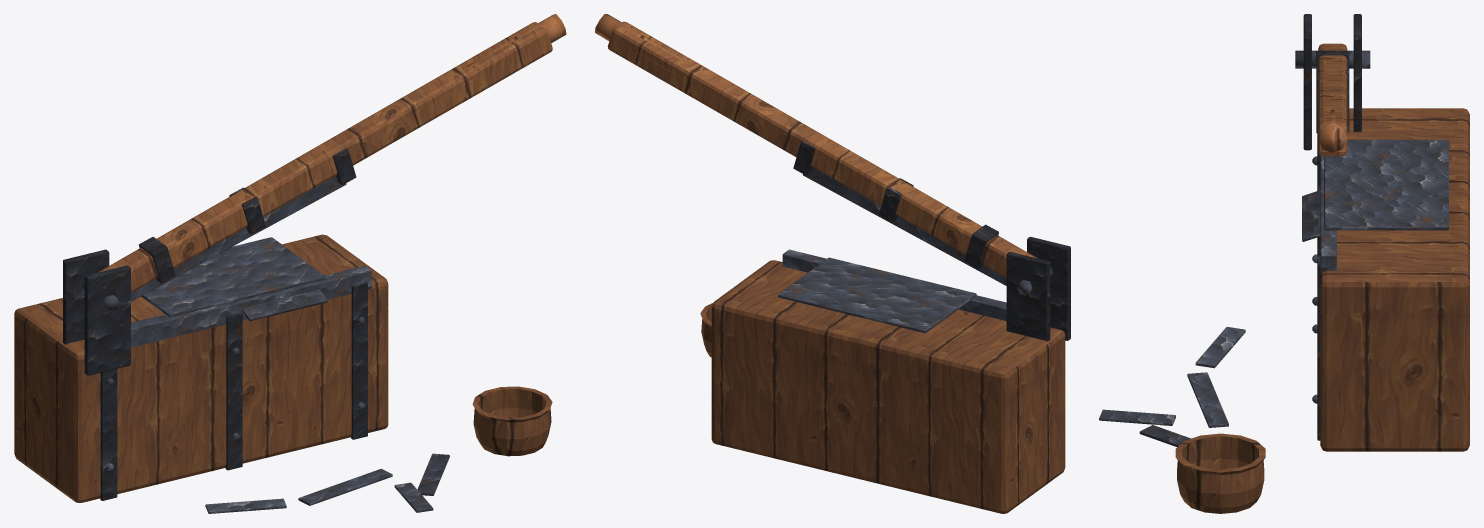
The model's file is hw_plate_shears.glb.
3 renders of one model, left to right at view 1: azimuth 30°, elevation 25°; view 2: azimuth 150°, elevation 25°; view 3: azimuth 270°, elevation 25°, orthographic. The views are drawn at different scales.
Visible parts, largest first — view 1: model; view 2: model; view 3: model.
Part boxes in pixels (x1,y1,x2,y2): model: (14, 14, 566, 513); model: (595, 14, 1070, 513); model: (1099, 14, 1469, 513).
Size of the model in its own units: 1.57 by 1.13 by 0.8926.
Materials: 7 (7 with a texture image).
